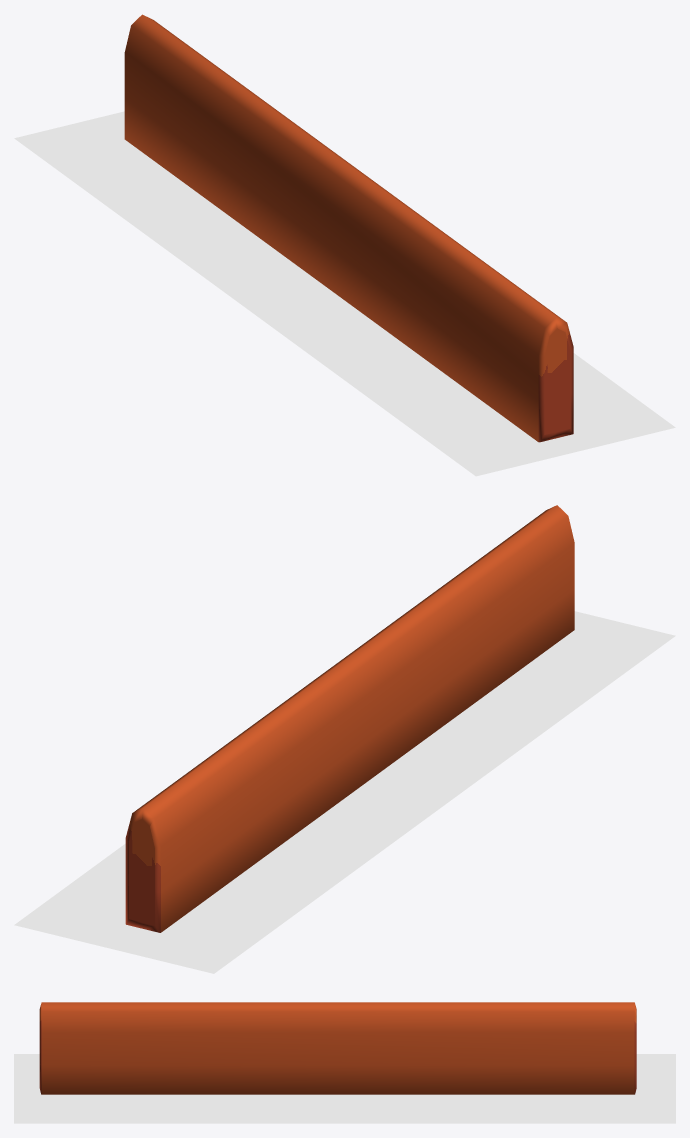
Rendered from NormalContent.fbx.
3 renders of one model, top to bottom at view 1: azimuth 30°, elevation 25°; view 2: azimuth 150°, elevation 25°; view 3: azimuth 270°, elevation 25°, orthographic. The views are drawn at different scales.
Visible parts, largest first — view 1: BasicObstacle, Shadow; view 2: BasicObstacle, Shadow; view 3: BasicObstacle, Shadow.
Boxes of the visible parts, x1,y1,x2,y2 form: BasicObstacle: (124,14,573,442); Shadow: (14,111,675,476); BasicObstacle: (125,505,574,932); Shadow: (14,611,675,973); BasicObstacle: (39,1002,636,1094); Shadow: (14,1054,675,1123).
Size of the model in its own units: 0.6805 by 0.3992 by 2.72.
